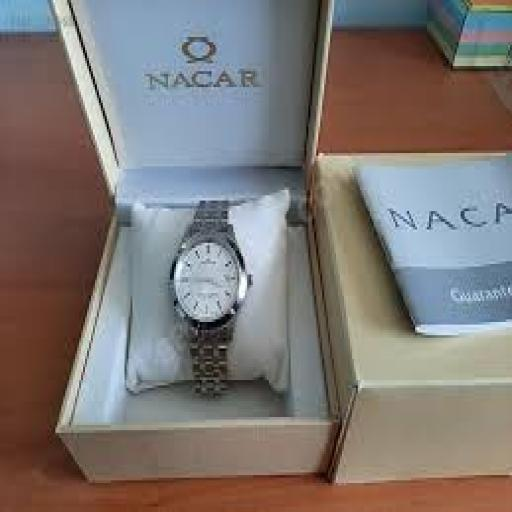KolSaati: (157, 177, 259, 407)
